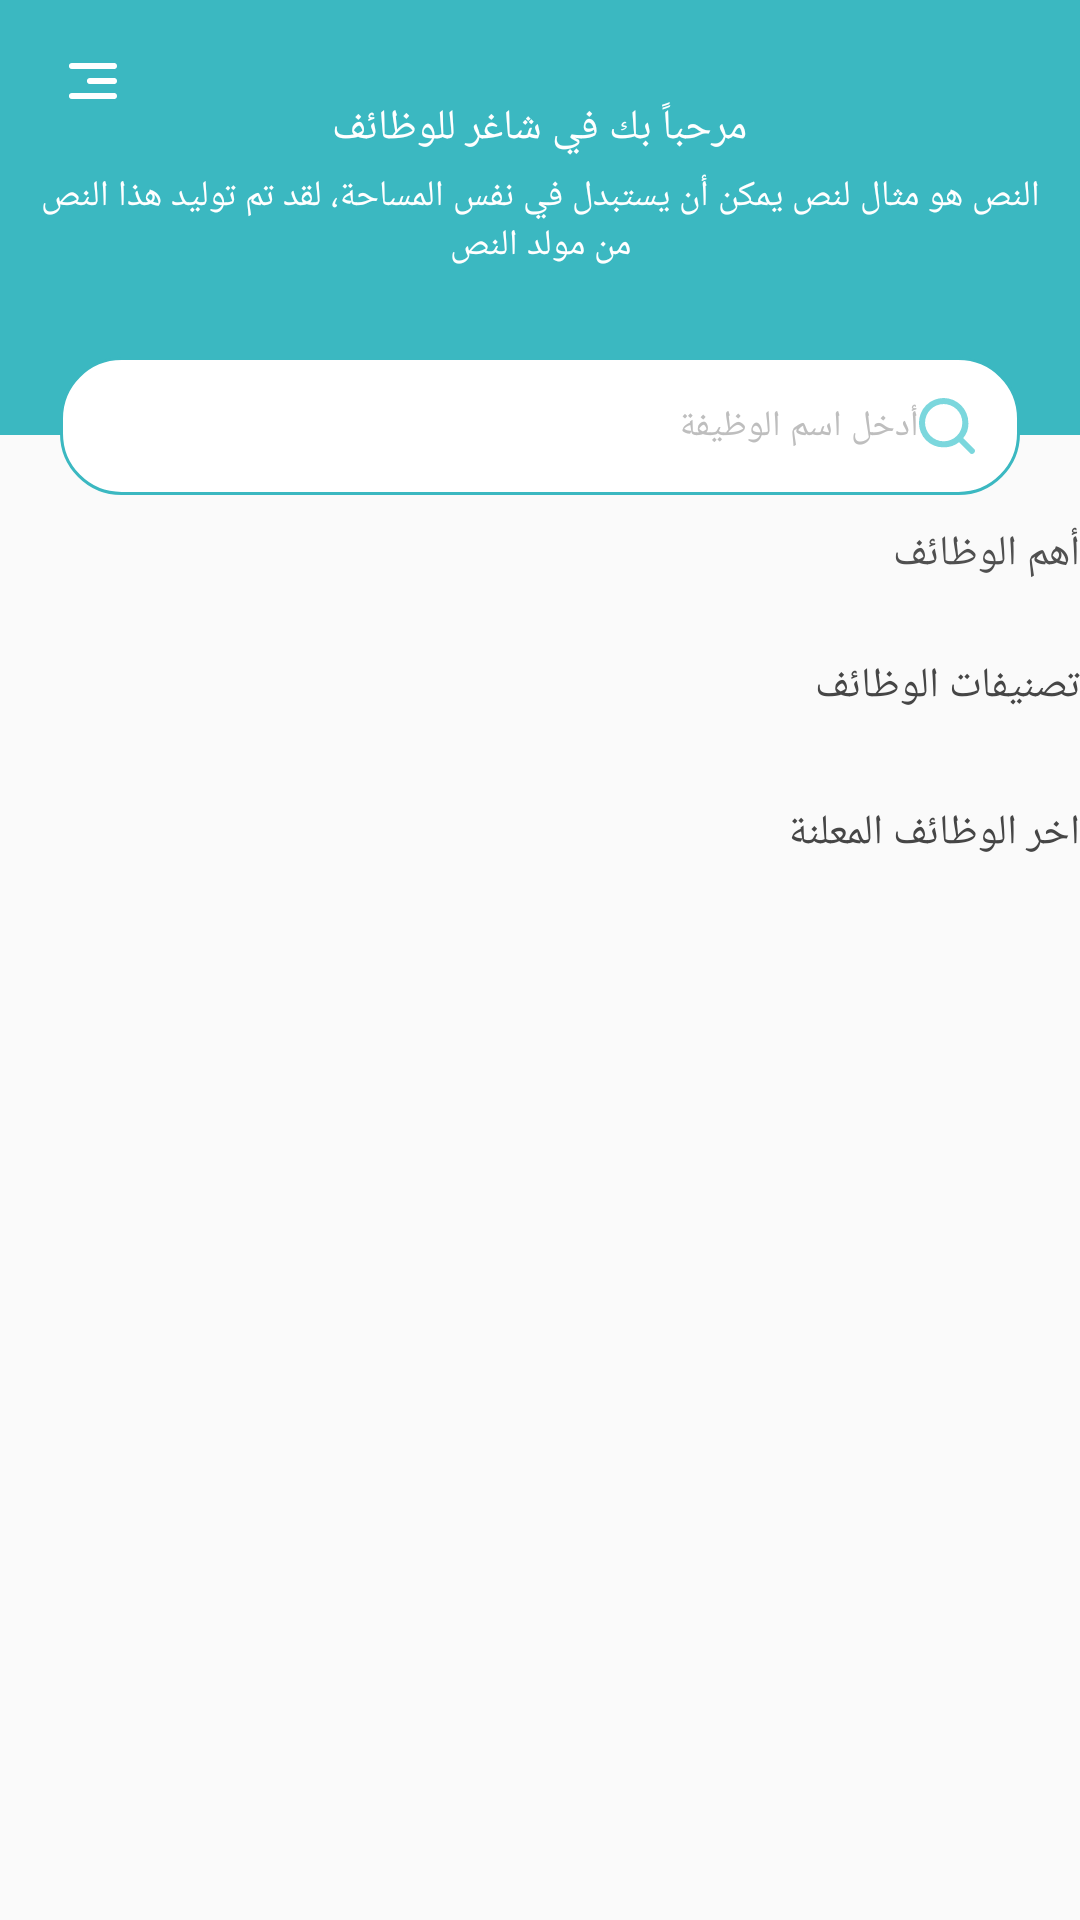

Named icons in this screenshot (1080px x 1920px) and their centers, point (x, y):
list: point (93, 81)
